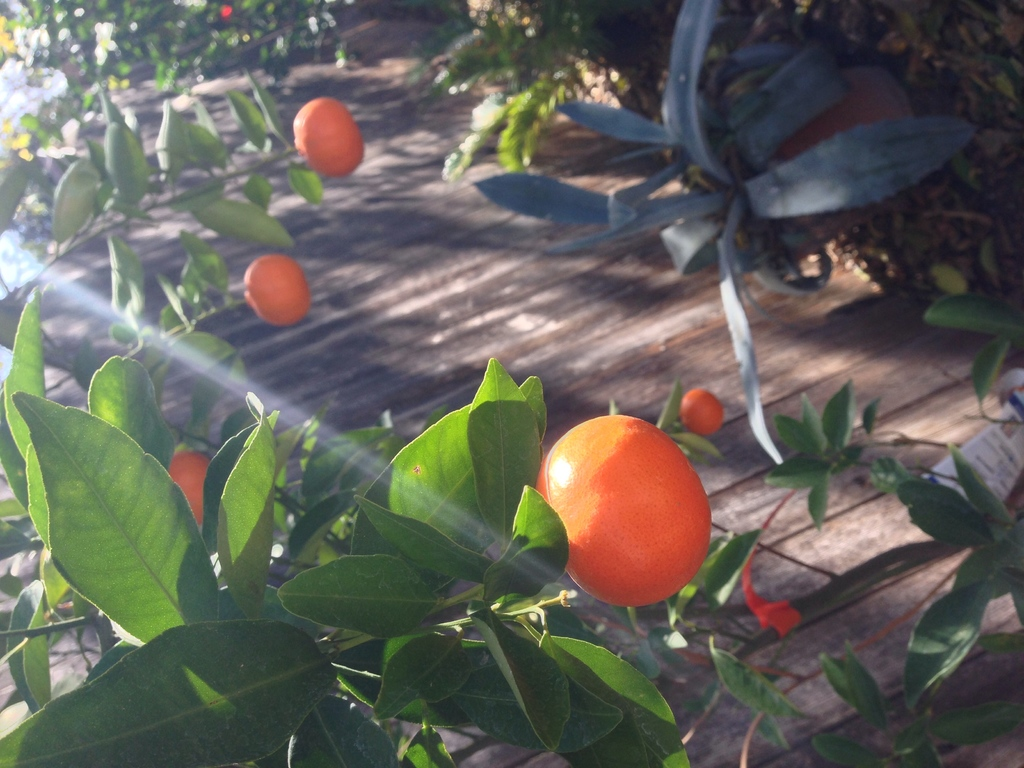Ripe: (541, 420, 713, 598)
